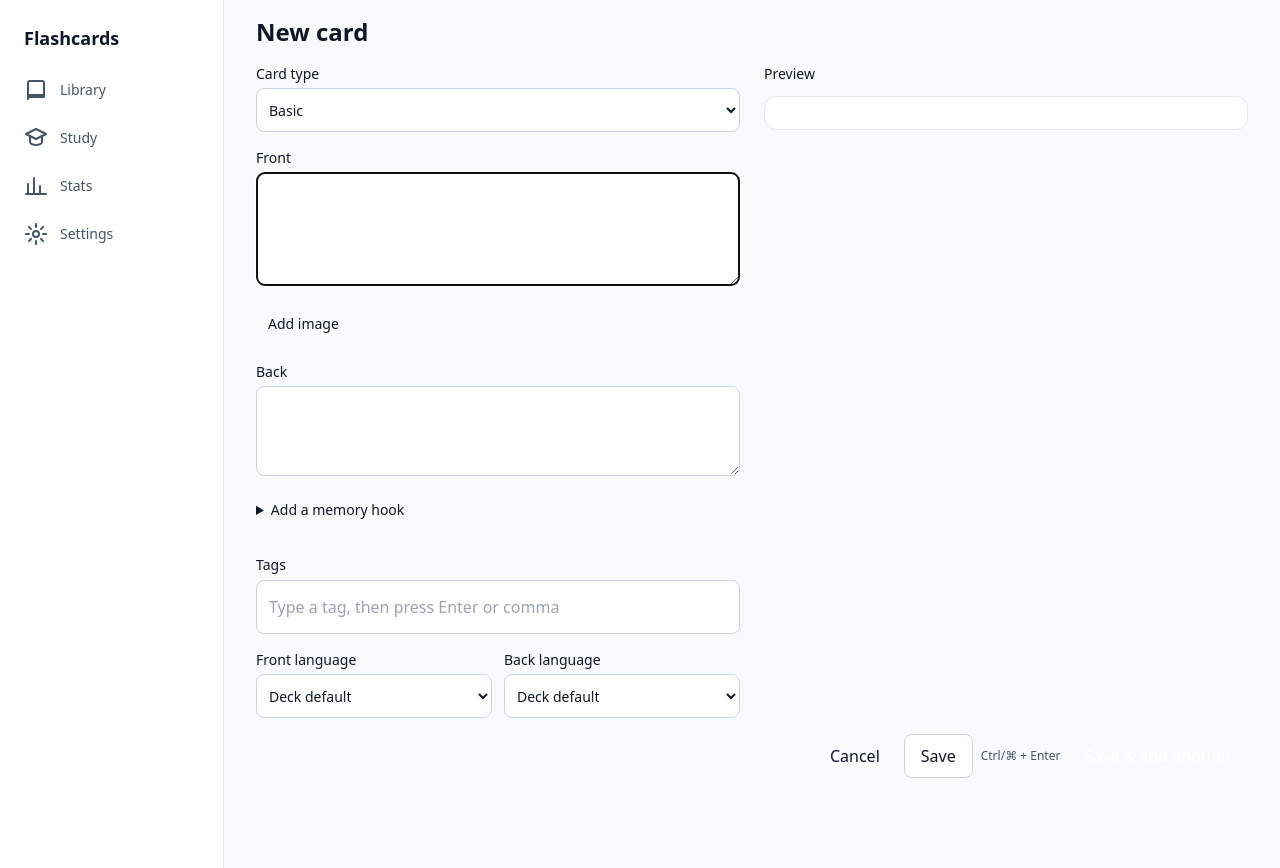
Test: save failures › a quota error while saving a card raises the storage banner
This screenshot has width=1280, height=868.
Type "q" into the text box labelled "Front" at (498, 229), box [256,172,740,286]
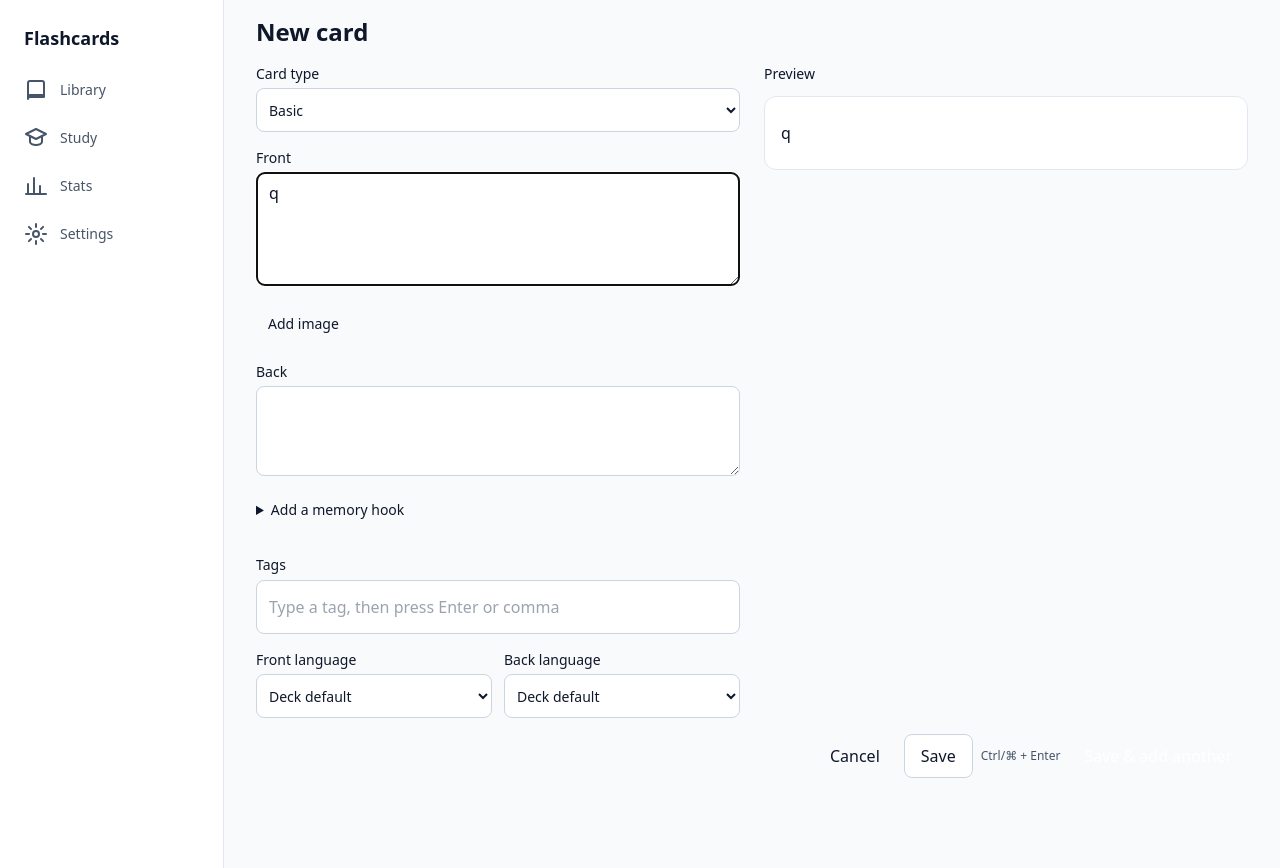
Type "a" into the text box labelled "Back" at (498, 431), box [256,386,740,476]
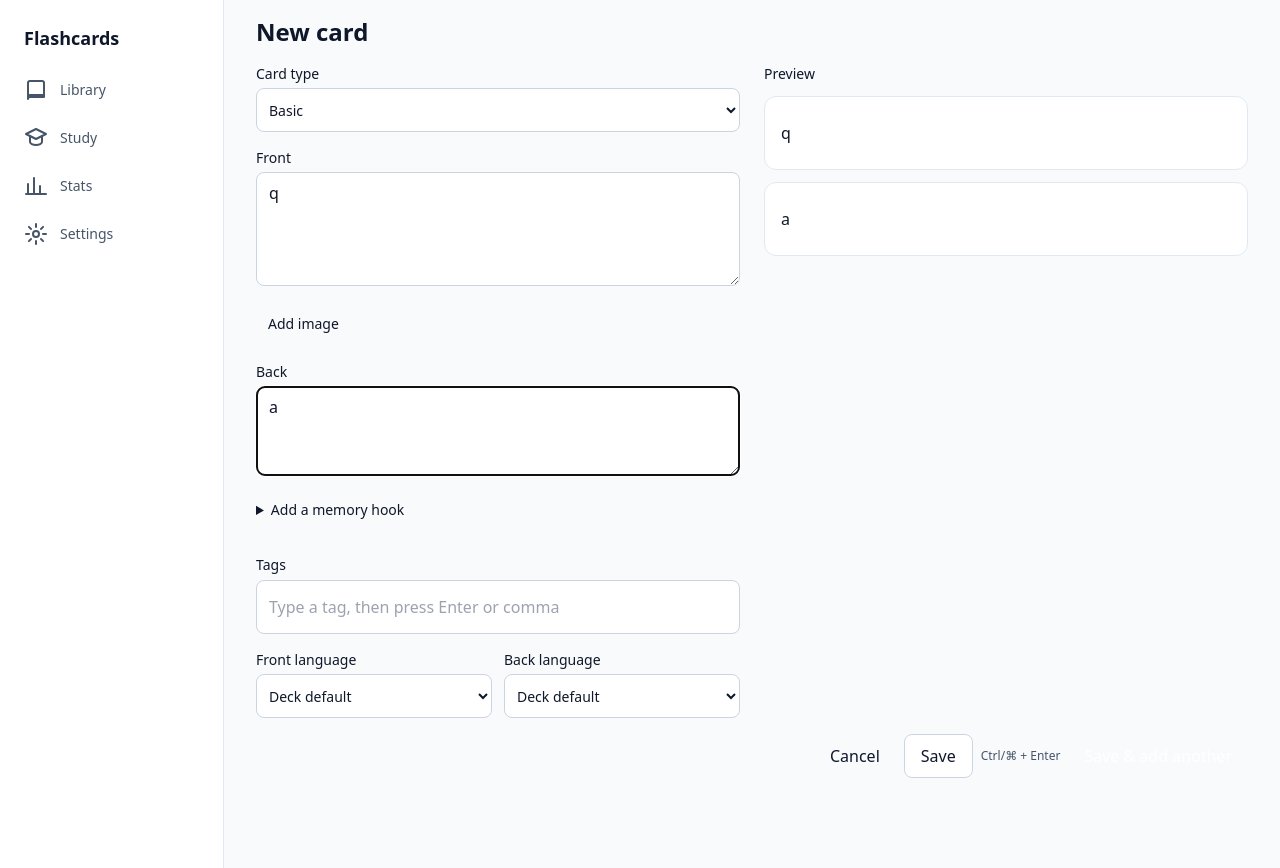
Click the button "Save" at (938, 756), box [904,734,973,778]
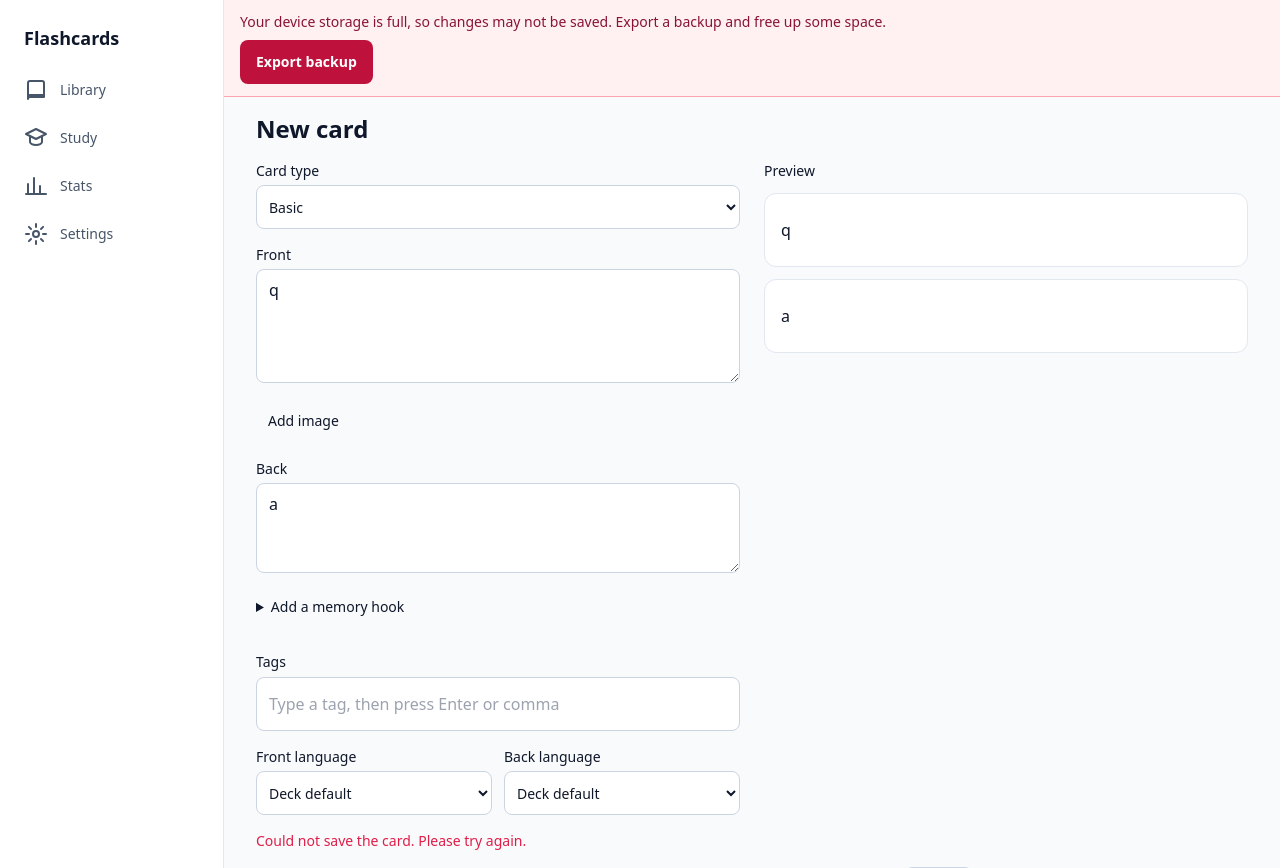
Now the text "storage is full" is shown, box [240,12,886,31]
